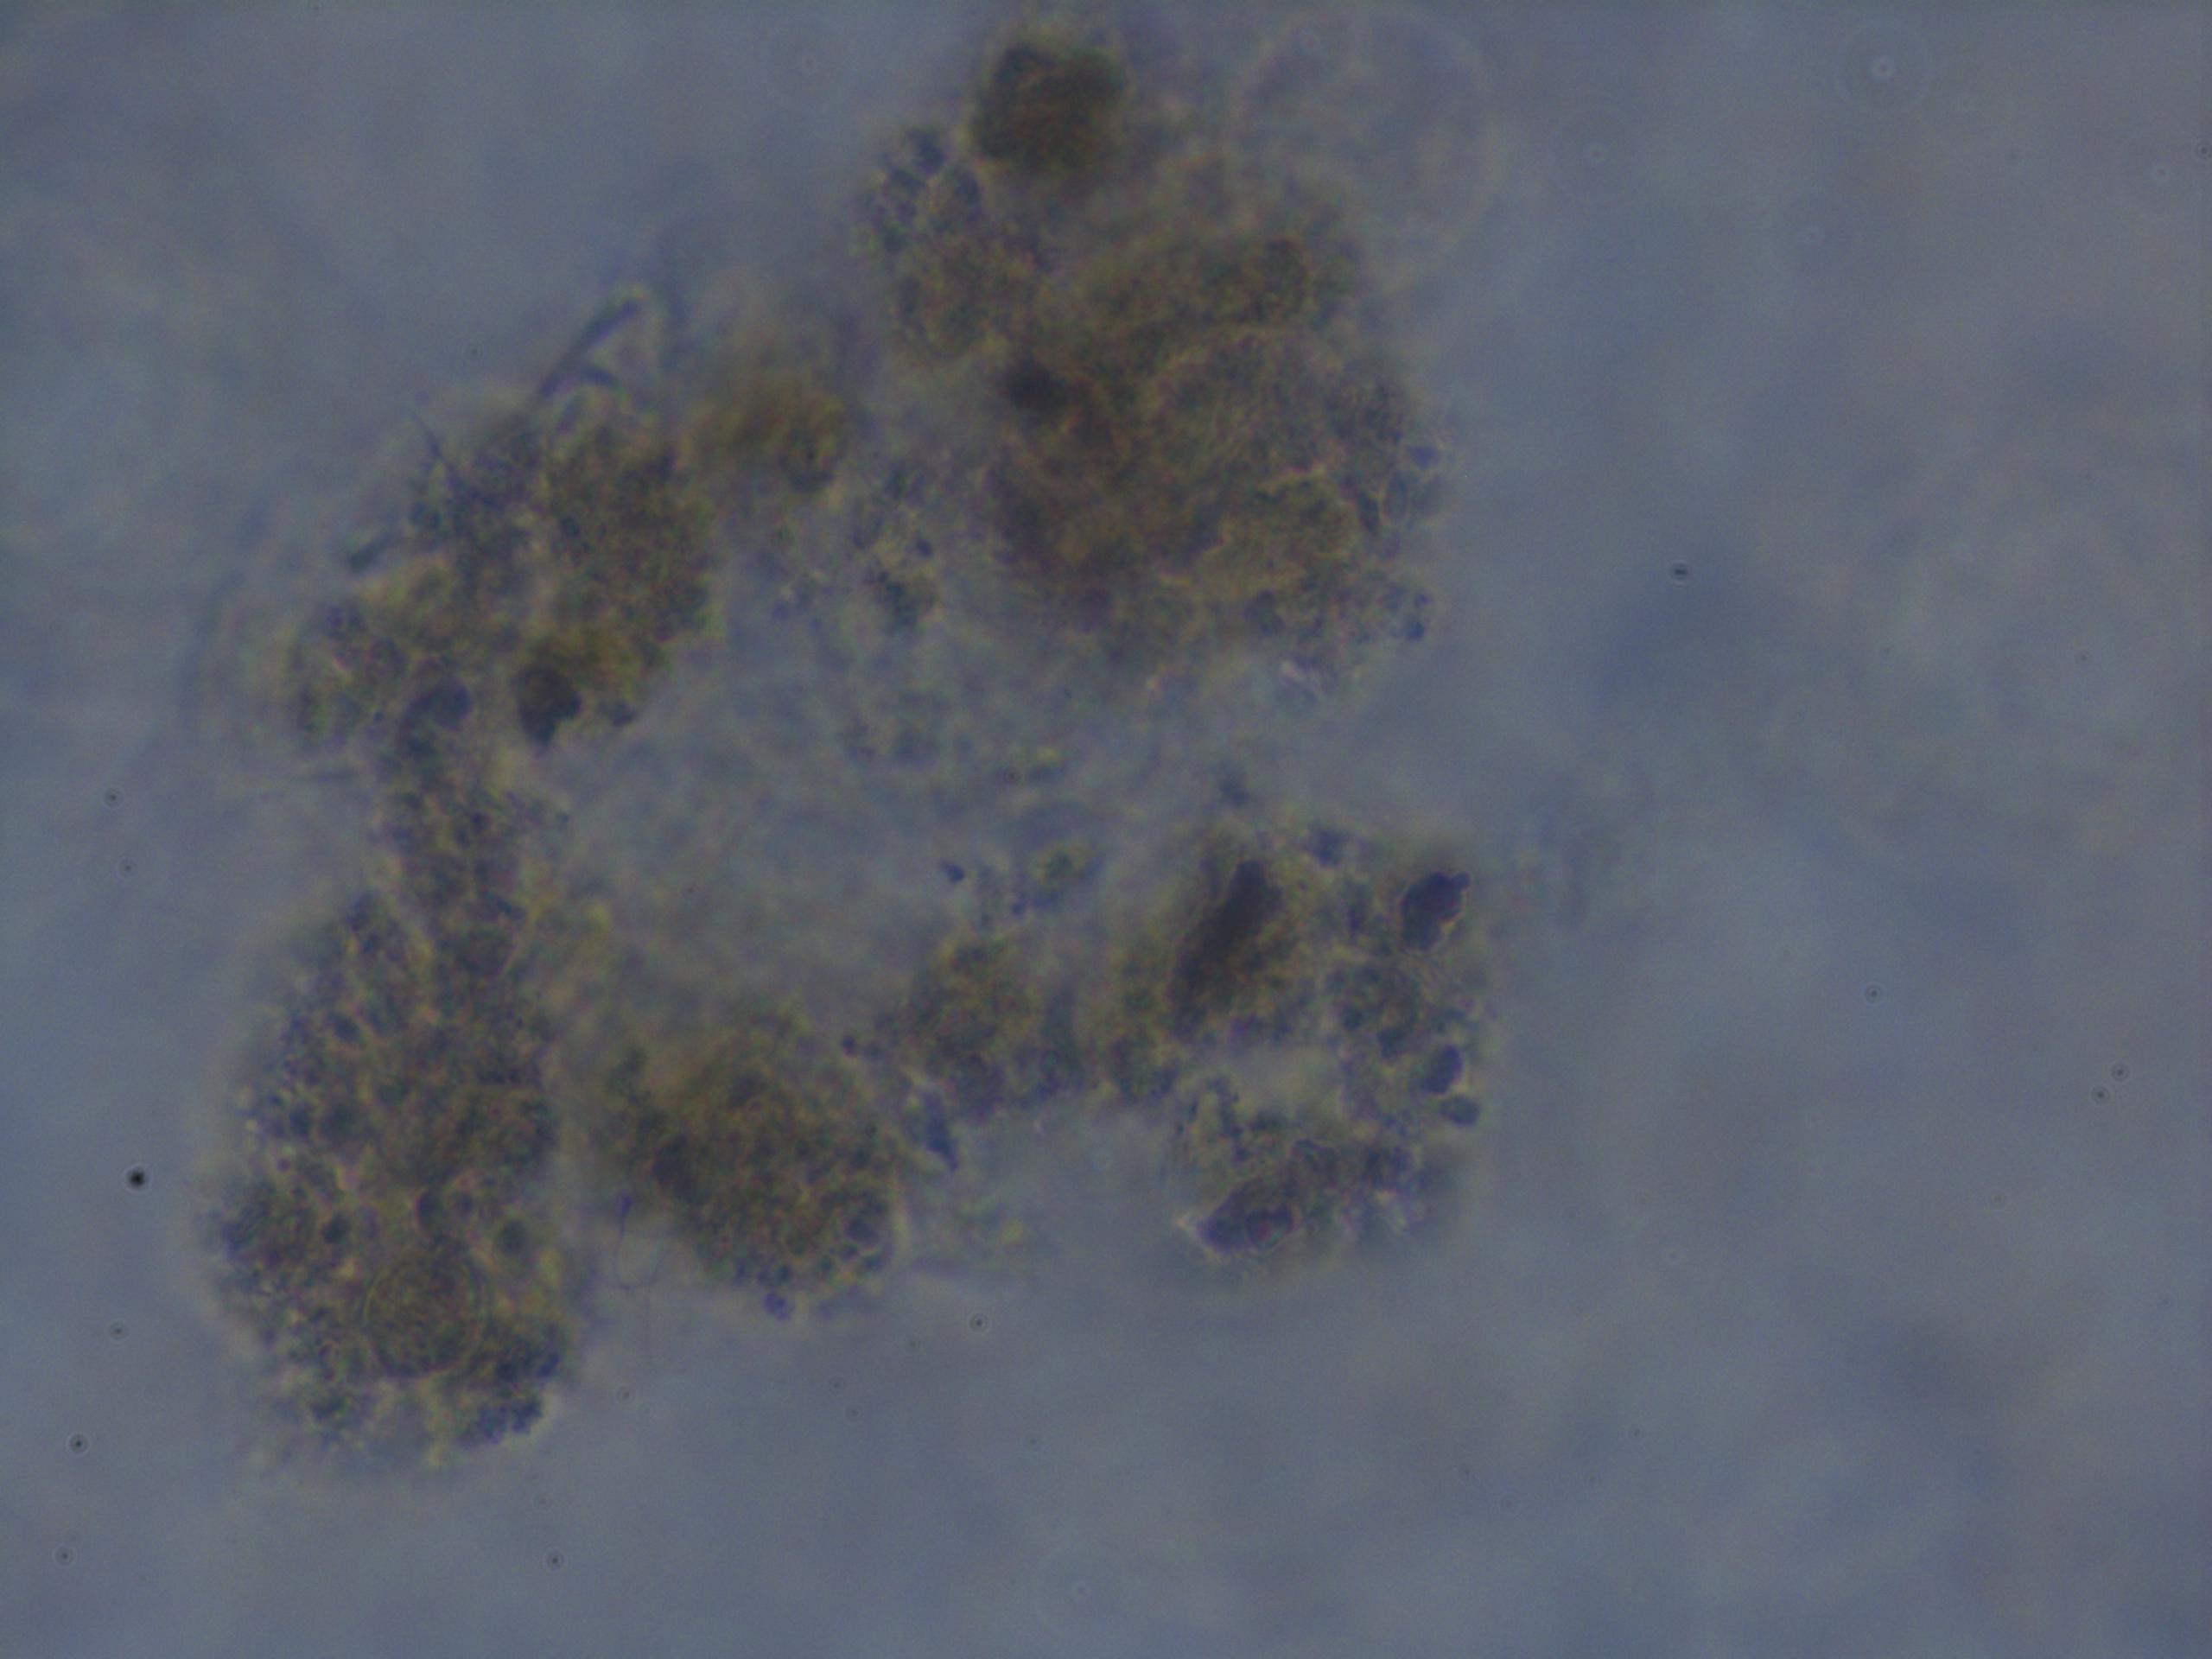open_floc: (204, 0, 1512, 1493)
